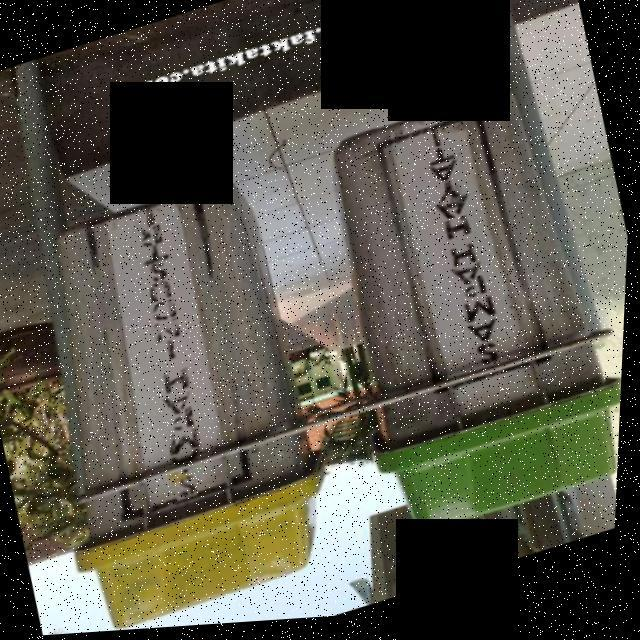bin: (258, 50, 637, 569), (0, 152, 352, 640)
